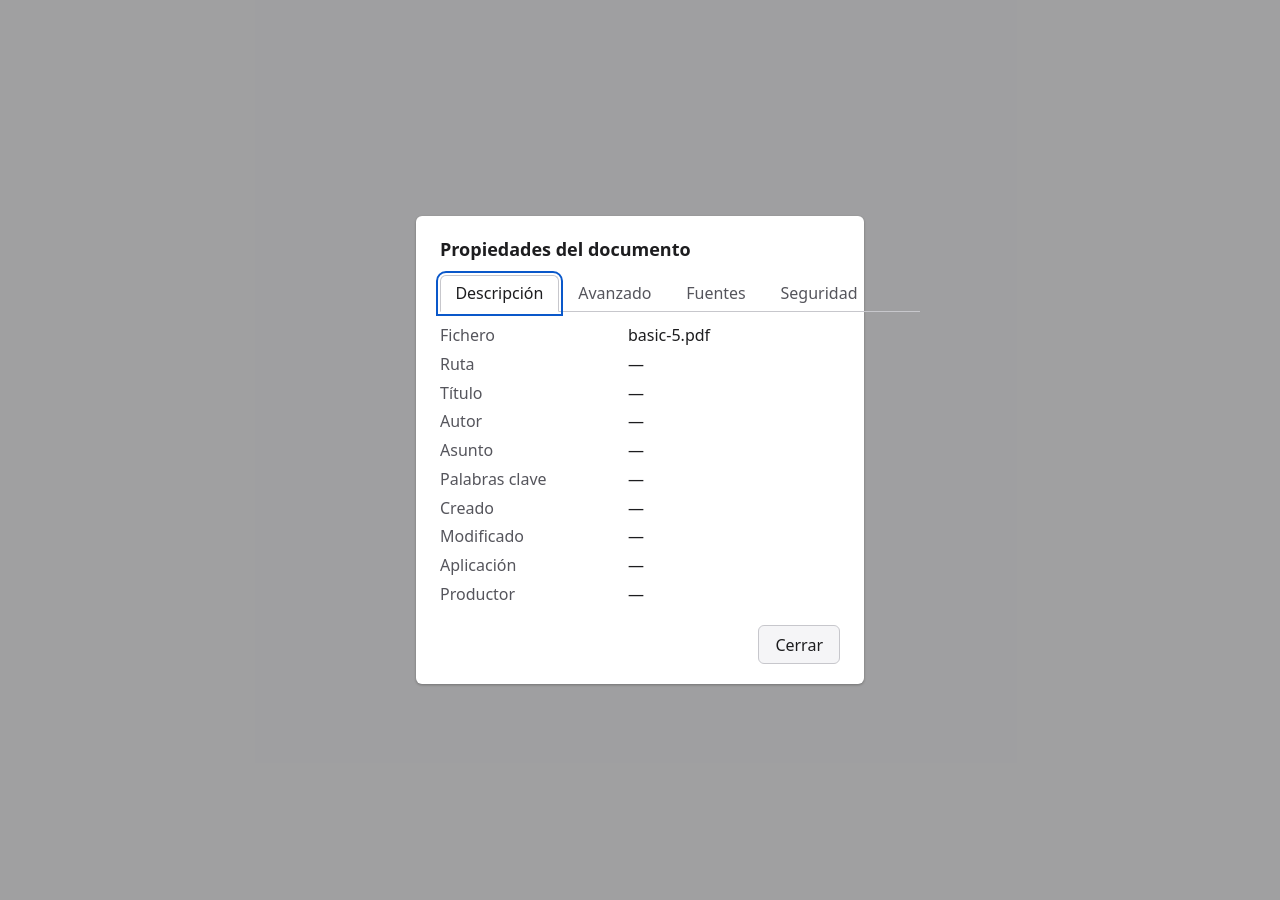
Test case: pestaña «Fuentes» del diálogo de propiedades › error de lectura: muestra el mensaje en español
This screenshot has width=1280, height=900.
Click the tab "Fuentes".
click(716, 293)  # box [671,275,761,312]
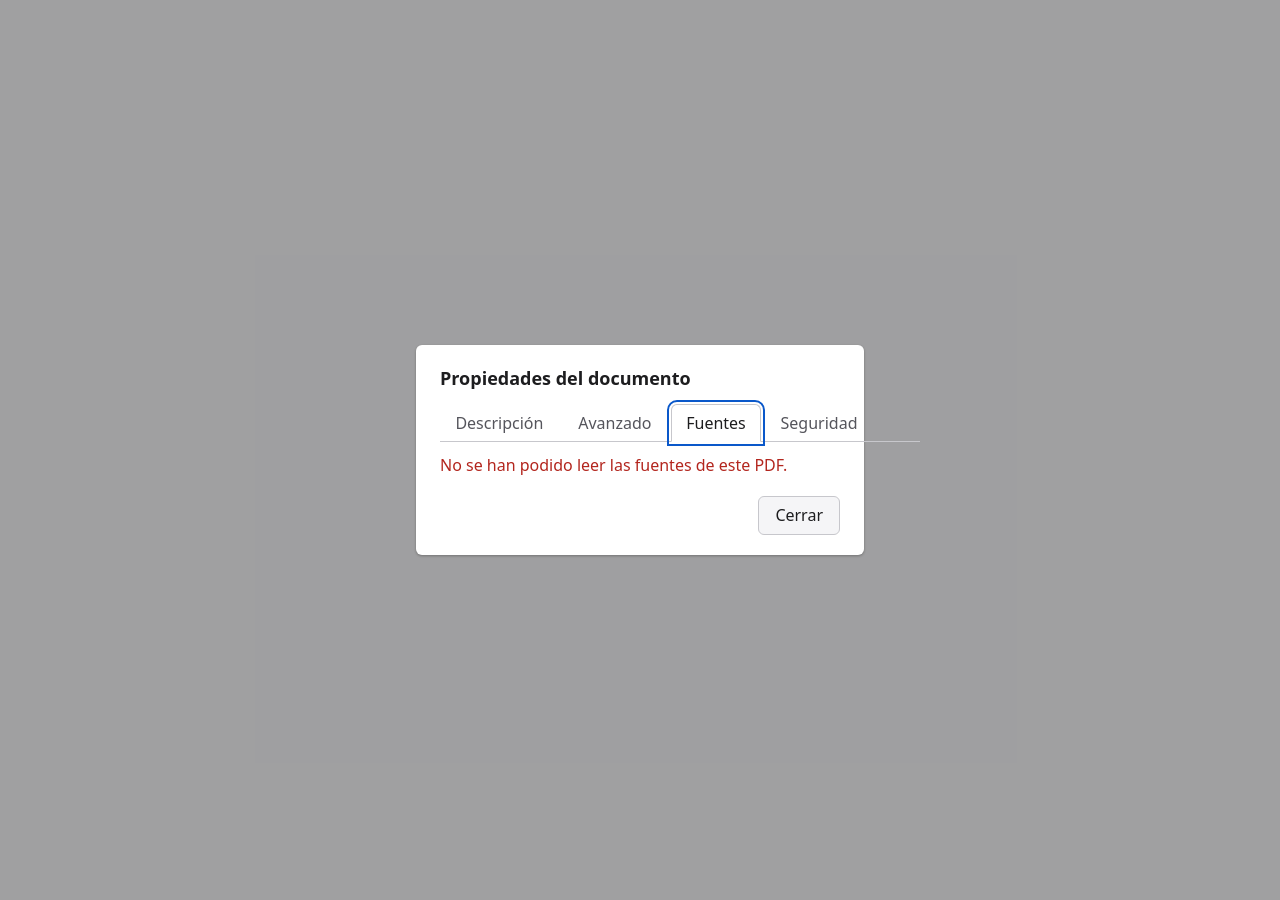
Expected: the text "No se han podido leer las fuentes de este PDF." is shown, [440,454,787,476]
